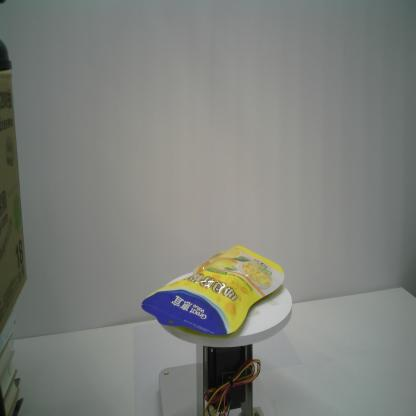Dried Fruit: (141, 244, 285, 336)
